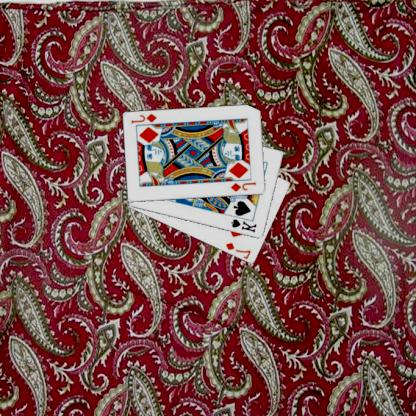7D: (224, 240, 254, 260)
JD: (230, 180, 260, 194), (130, 111, 160, 124)
KS: (230, 217, 260, 234)
